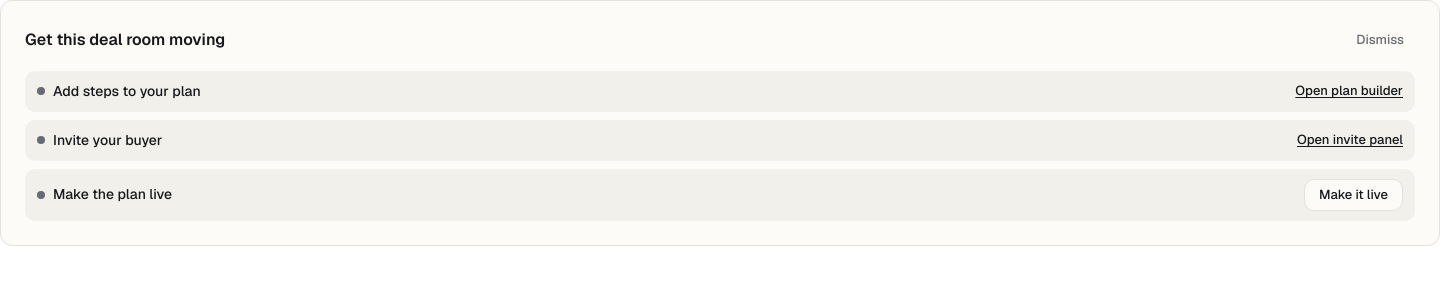
ActivationChecklist — make it live › shows a quiet inline error next to the button when the action fails
Click the button "Make it live": [1354, 194] box [1304, 178, 1403, 210]
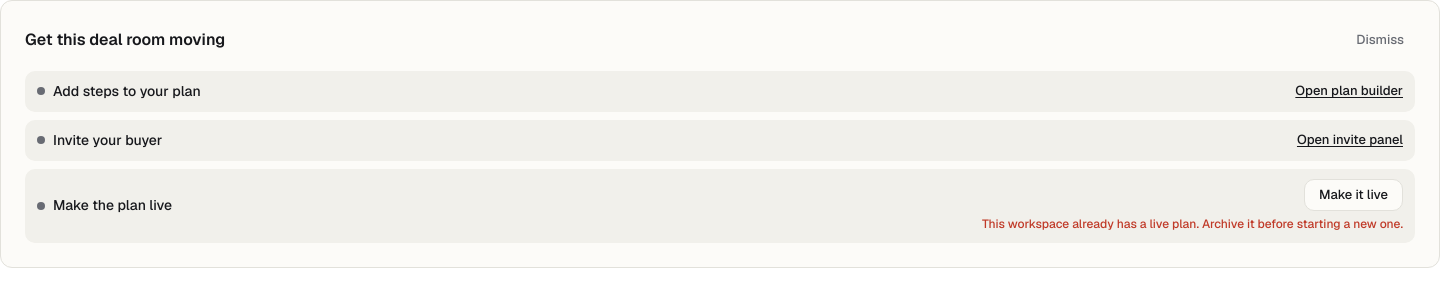
Expected: the message reads "This workspace already has a live plan. Archive it before starting a new one.", [982, 216, 1403, 232]
